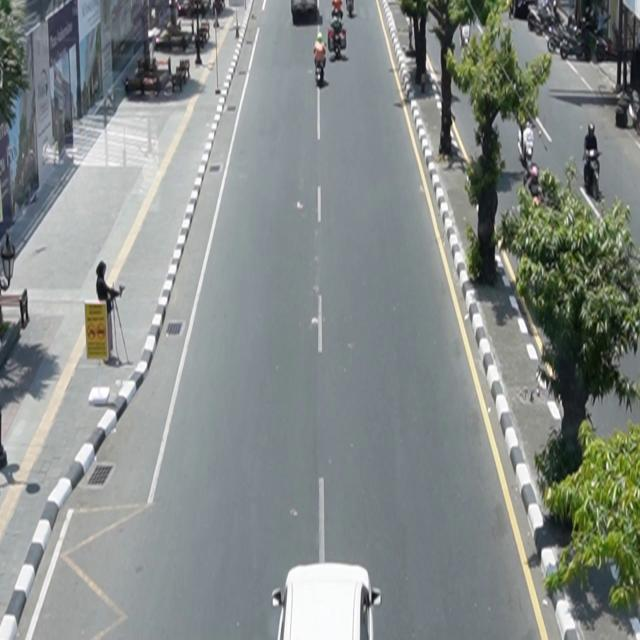car: (272, 563, 383, 640)
